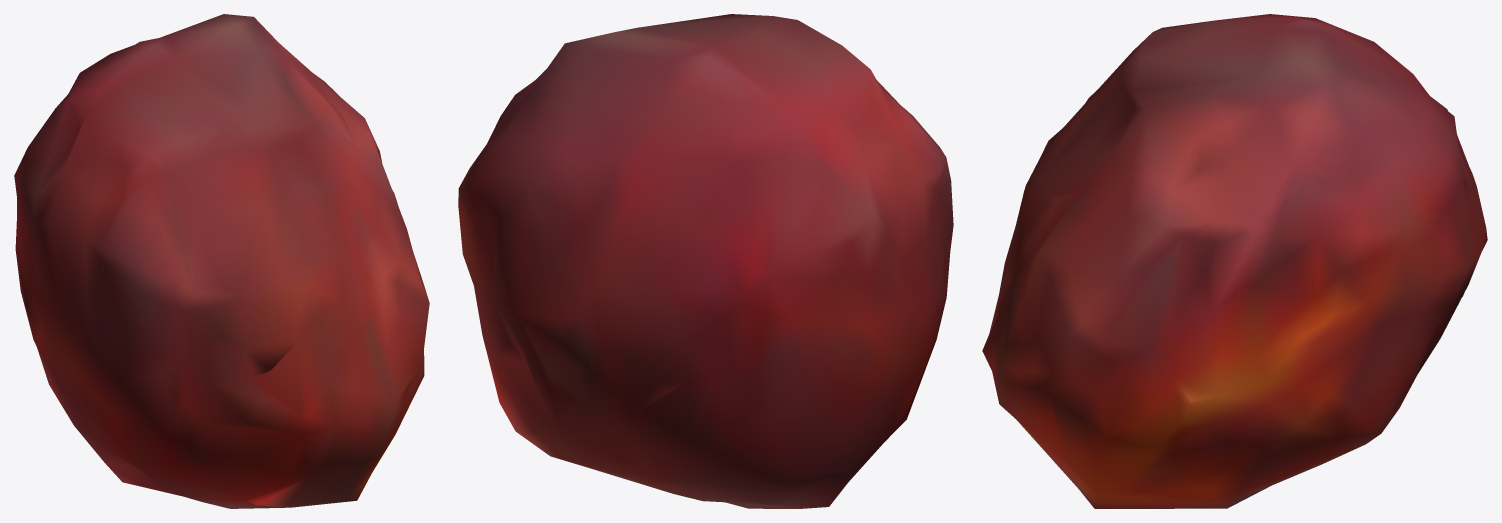
Rendered from gem_ember.glb.
The picture shows the model from 3 angles, left to right: view 1: azimuth 30°, elevation 25°; view 2: azimuth 150°, elevation 25°; view 3: azimuth 270°, elevation 25°; orthographic projection. The views are drawn at different scales.
Parts seen in each view (by area): view 1: model; view 2: model; view 3: model.
Part boxes in pixels (x1,y1,x2,y2): model: (14, 14, 429, 508); model: (458, 14, 953, 508); model: (982, 14, 1487, 508).
Bounding box in the file's own units: 0.3224 × 0.3863 × 0.4.
Materials: 1 (1 with a texture image).
